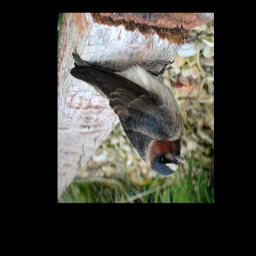Swallow: (68, 50, 188, 179)
